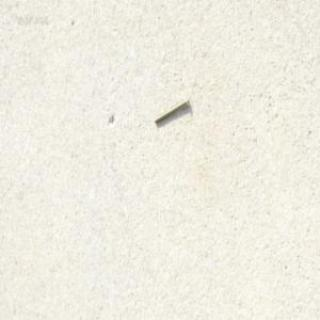Bolttrack_idkeyframe: (153, 95, 188, 124)
